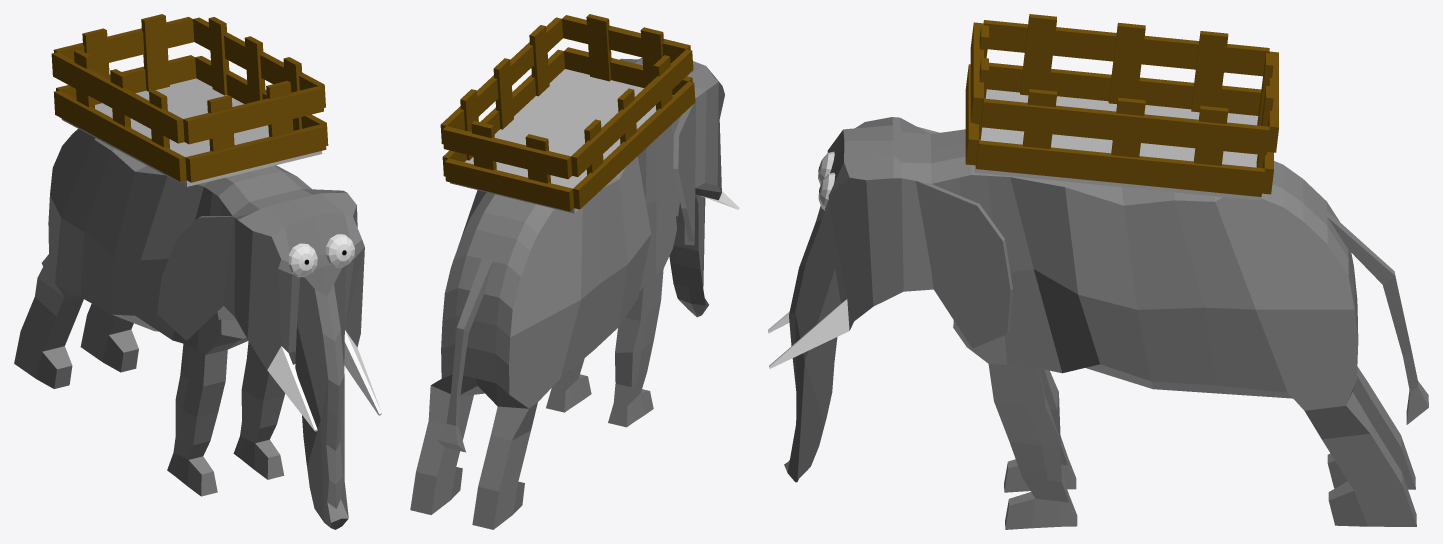
File: Elephant_With_Body_Bones.fbx
The picture shows the model from 3 angles, left to right: view 1: azimuth 30°, elevation 25°; view 2: azimuth 150°, elevation 25°; view 3: azimuth 270°, elevation 25°; orthographic projection. The views are drawn at different scales.
Visible parts, largest first — view 1: Elephant; view 2: Elephant; view 3: Elephant.
Boxes of the visible parts, x1,y1,x2,y2 form: Elephant: [14, 14, 381, 529]; Elephant: [410, 14, 739, 529]; Elephant: [768, 14, 1428, 529].
Bounding box in the file's own units: 242 × 541 × 708.
